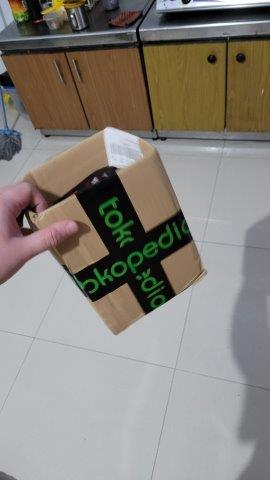kardus: (20, 126, 208, 335)
